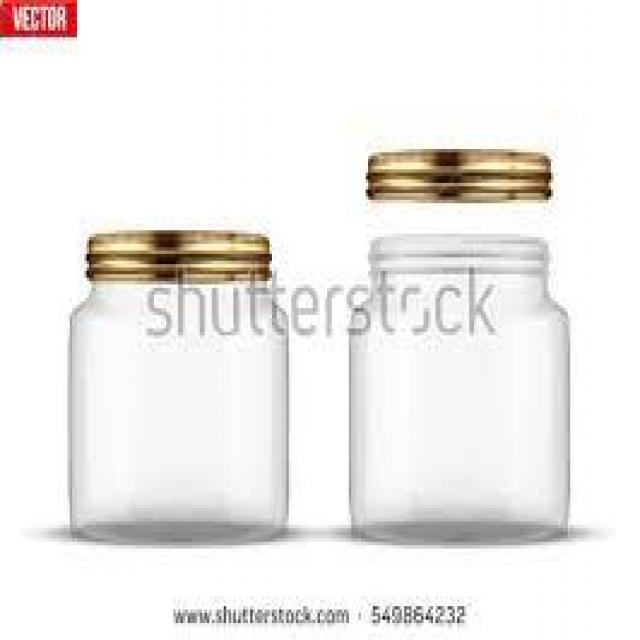non-organic waste: (64, 223, 292, 552)
